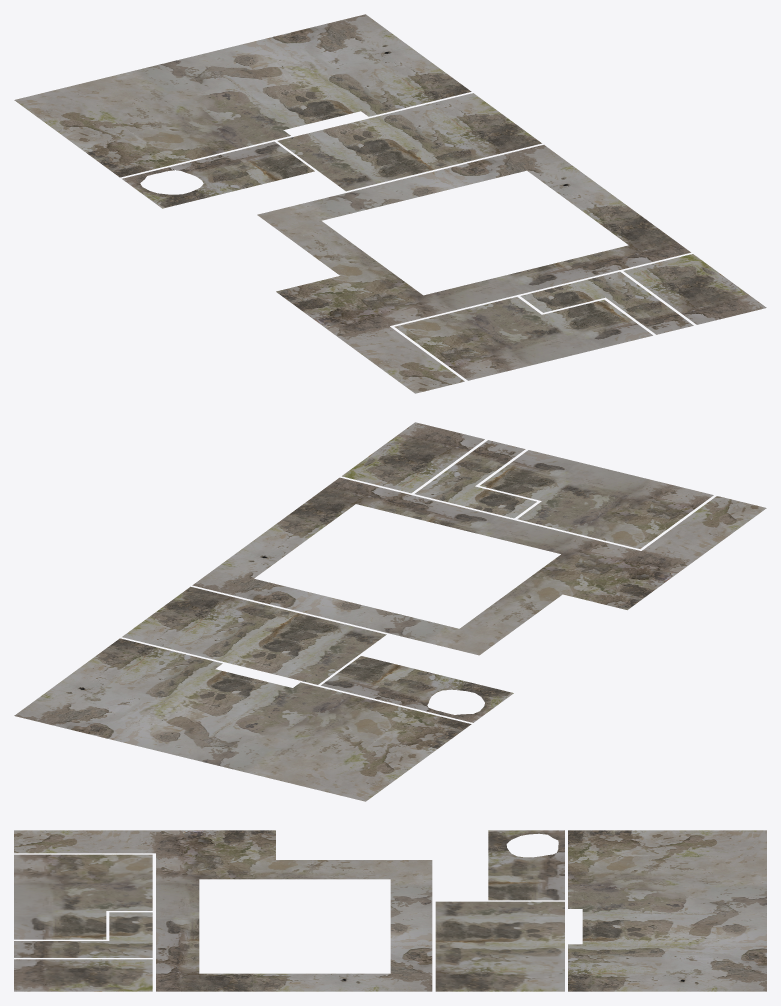
The model's file is A2_H2_Ceiling.FBX.
3 renders of one model, top to bottom at view 1: azimuth 30°, elevation 25°; view 2: azimuth 150°, elevation 25°; view 3: azimuth 270°, elevation 25°, orthographic. The views are drawn at different scales.
Parts seen in each view (by area): view 1: A2_H2_Ceiling; view 2: A2_H2_Ceiling; view 3: A2_H2_Ceiling.
Boxes of the visible parts, box(x1,y1,x2,y2) form: A2_H2_Ceiling: box(14, 14, 766, 393); A2_H2_Ceiling: box(14, 422, 766, 801); A2_H2_Ceiling: box(14, 830, 766, 991).
Size of the model in its own units: 1800 by 0.000183 by 3556.
